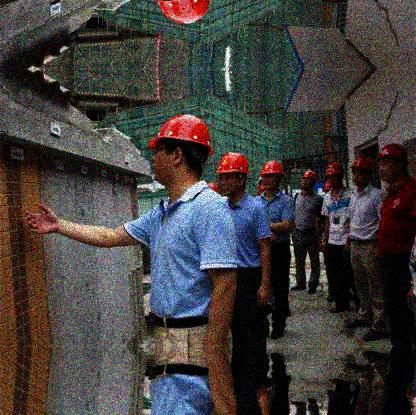helmet: (149, 115, 211, 189), (376, 145, 408, 189), (216, 153, 248, 195), (351, 156, 375, 190), (261, 160, 283, 193), (324, 162, 345, 193)
